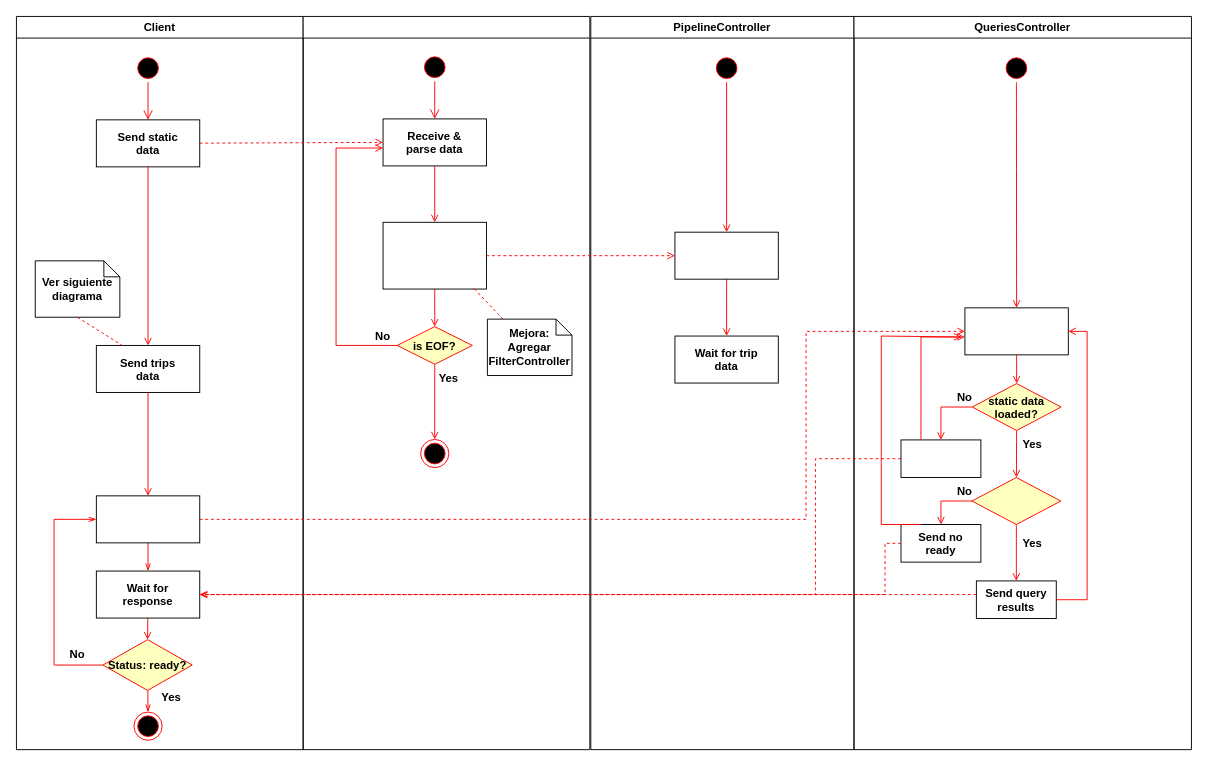
The diagram is 1208 pixels wide and 766 high, and some of its shapes have lost their labels. The box of each missing label's shape, as (x1, y1, x2, y2) in pixels:
3 queries ready?: (971, 477, 1061, 525)
Get status queries: (95, 495, 200, 543)
Load data in memory: (674, 231, 778, 279)
Receive request: (964, 307, 1068, 355)
Redirect data to Pipeline controller. Filter useless columns: (382, 221, 486, 289)
Send error message: (900, 439, 981, 478)
StaticDataHandler: (302, 16, 590, 750)
